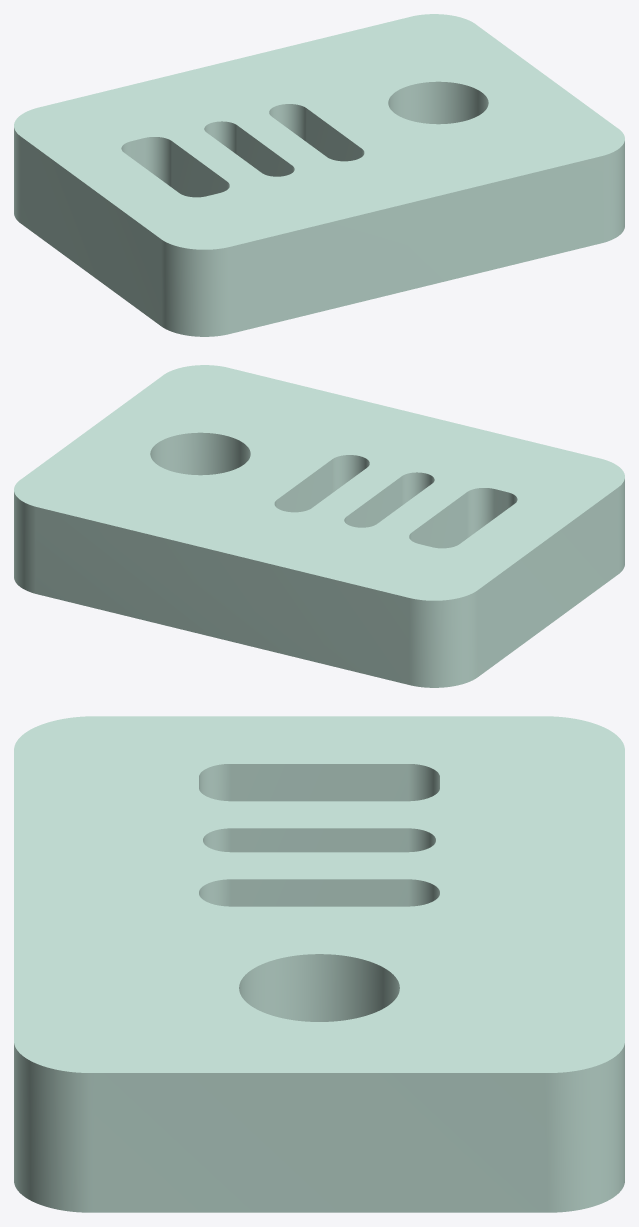
3 views of the same model, one above another, from view 1: azimuth 30°, elevation 25°; view 2: azimuth 150°, elevation 25°; view 3: azimuth 270°, elevation 25° (orthographic). The views are drawn at different scales.
Parts seen in each view (by area): view 1: Renderer Node; view 2: Renderer Node; view 3: Renderer Node.
Part boxes in pixels (<box>): Renderer Node: <box>14,14,624,336</box>; Renderer Node: <box>14,365,624,687</box>; Renderer Node: <box>14,716,624,1212</box>.
Bounding box in the file's own units: 0.9845 × 0.1797 × 0.7125.
